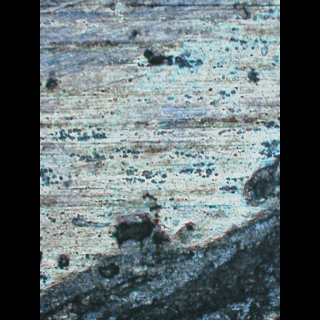d: (40, 150, 279, 319)
